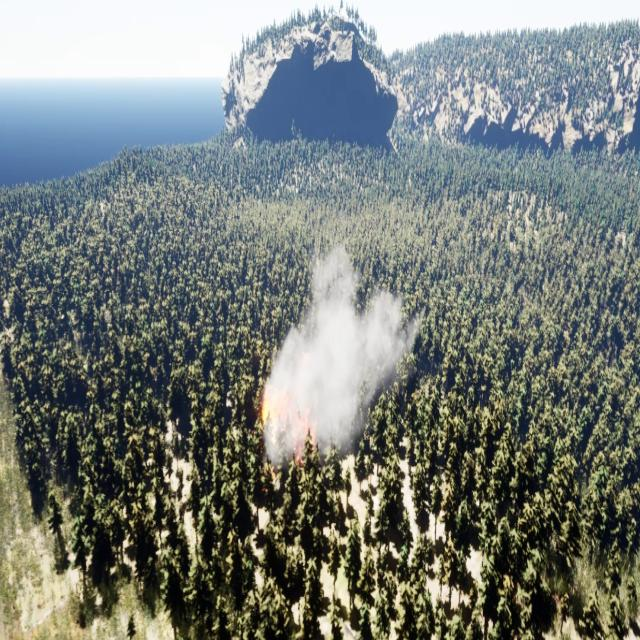fire: (256, 383, 318, 461)
smoke: (265, 243, 424, 481)
